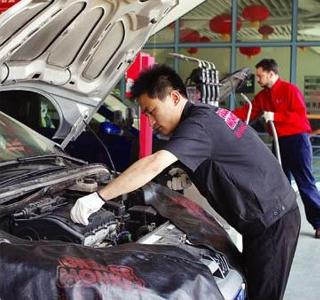person: (71, 65, 303, 300)
